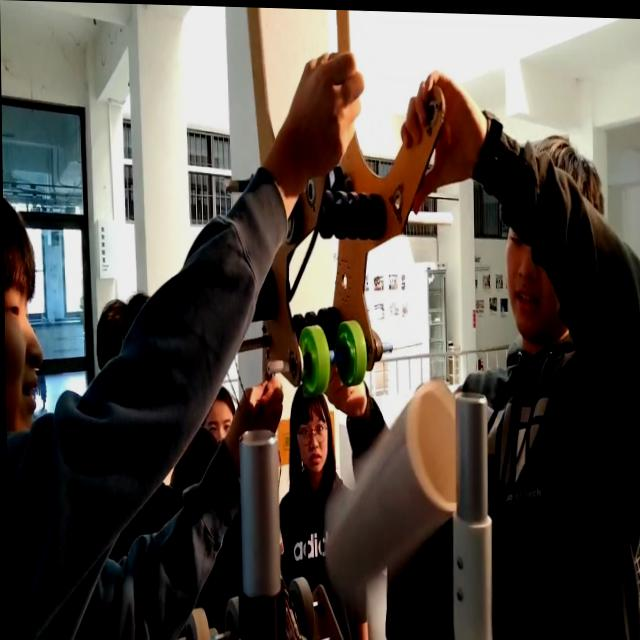CORAL: (322, 382, 471, 601)
